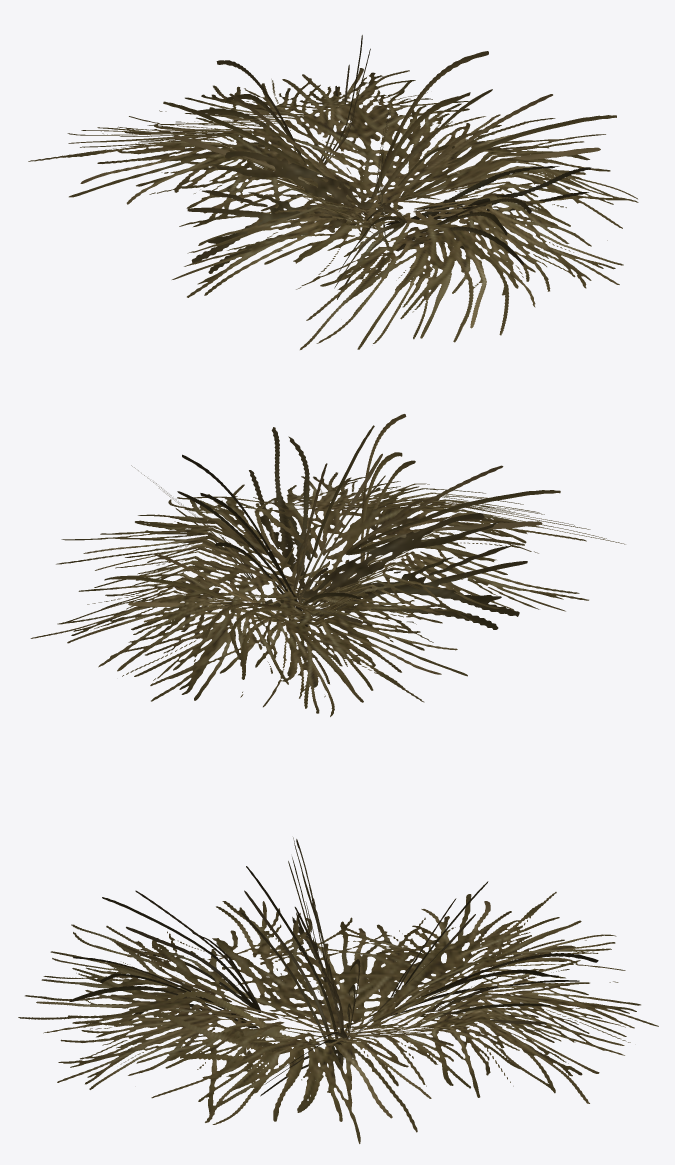
File: Scene_Grass_ZaCao_1.FBX
3 views of the same model, one above another, from view 1: azimuth 30°, elevation 25°; view 2: azimuth 150°, elevation 25°; view 3: azimuth 270°, elevation 25° (orthographic). The views are drawn at different scales.
Visible parts, largest first — view 1: Scene_Grass_ZaCao_1; view 2: Scene_Grass_ZaCao_1; view 3: Scene_Grass_ZaCao_1.
Part boxes in pixels (left/top/right/bottom): Scene_Grass_ZaCao_1: left=28, top=35, right=638, bottom=349; Scene_Grass_ZaCao_1: left=30, top=414, right=625, bottom=716; Scene_Grass_ZaCao_1: left=18, top=837, right=658, bottom=1143.
Size of the model in its own units: 102 by 39.78 by 114.
